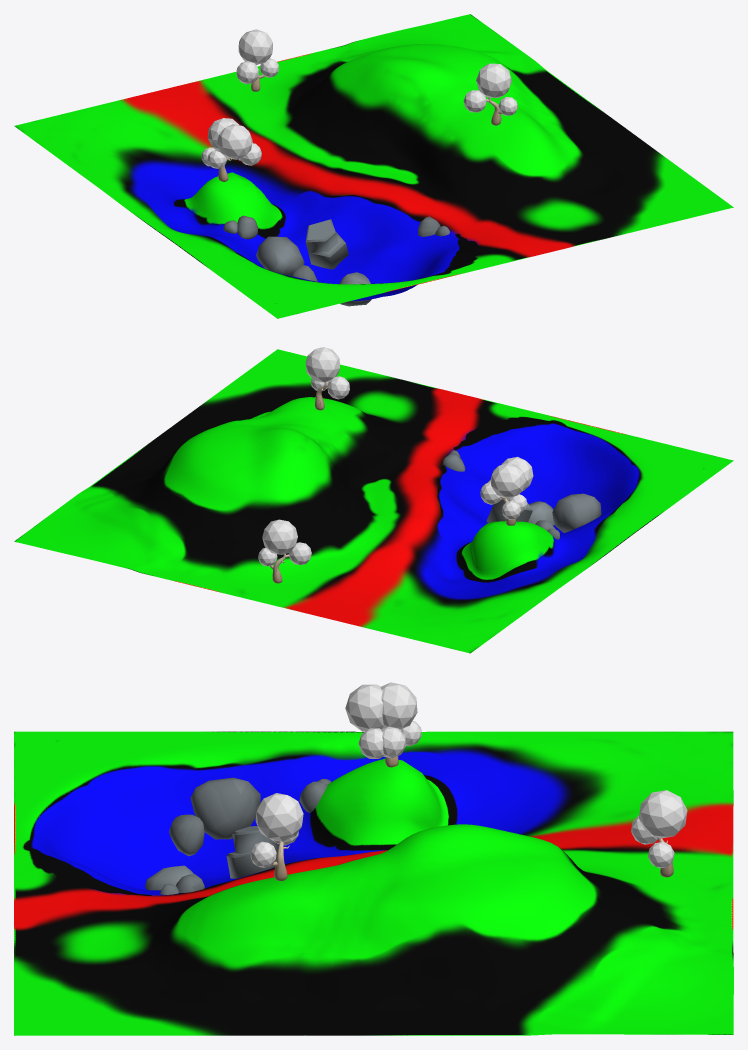
File: testbed.glb
3 views of the same model, one above another, from view 1: azimuth 30°, elevation 25°; view 2: azimuth 150°, elevation 25°; view 3: azimuth 270°, elevation 25° (orthographic). The views are drawn at different scales.
Visible parts, largest first — view 1: Terrain, Rock_1_A_Color1, Rock_3_D_Color1.002, Tree_Cannopy_1_C_Color6.007, Tree_Cannopy_1_C_Color6.010, Tree_Cannopy_1_C_Color6.004; view 2: Terrain, Rock_3_D_Color1.002, Tree_Cannopy_1_C_Color6.004, Tree_Cannopy_1_C_Color6.001, Tree_Cannopy_1_C_Color6.007; view 3: Terrain, Rock_3_D_Color1.002, Tree_Cannopy_1_C_Color6.004, Tree_Cannopy_1_C_Color6.007, Tree_Cannopy_1_C_Color6.010, Rock_1_A_Color1, Tree_Cannopy_1_C_Color6.001, Rock_3_D_Color1.005, Rock_3_F_Color1, Tree_Cannopy_1_C_Color6.011, Tree_Cannopy_1_C_Color6.002.
Boxes of the visible parts, left/top/right/bottom form: Terrain: left=14, top=14, right=733, bottom=318; Rock_1_A_Color1: left=305, top=219, right=348, bottom=269; Rock_3_D_Color1.002: left=256, top=236, right=304, bottom=275; Tree_Cannopy_1_C_Color6.007: left=476, top=63, right=511, bottom=97; Tree_Cannopy_1_C_Color6.010: left=217, top=124, right=252, bottom=159; Tree_Cannopy_1_C_Color6.004: left=238, top=29, right=272, bottom=64; Terrain: left=14, top=349, right=733, bottom=653; Rock_3_D_Color1.002: left=552, top=493, right=601, bottom=532; Tree_Cannopy_1_C_Color6.004: left=262, top=519, right=297, bottom=554; Tree_Cannopy_1_C_Color6.001: left=490, top=462, right=525, bottom=498; Tree_Cannopy_1_C_Color6.007: left=305, top=347, right=339, bottom=382; Terrain: left=14, top=731, right=733, bottom=1035; Rock_3_D_Color1.002: left=190, top=777, right=260, bottom=839; Tree_Cannopy_1_C_Color6.004: left=638, top=790, right=687, bottom=838; Tree_Cannopy_1_C_Color6.007: left=255, top=793, right=303, bottom=841; Tree_Cannopy_1_C_Color6.010: left=345, top=684, right=383, bottom=731; Rock_1_A_Color1: left=226, top=826, right=278, bottom=878; Tree_Cannopy_1_C_Color6.001: left=380, top=682, right=417, bottom=729; Rock_3_D_Color1.005: left=169, top=814, right=204, bottom=856; Rock_3_F_Color1: left=145, top=865, right=193, bottom=890; Tree_Cannopy_1_C_Color6.011: left=358, top=728, right=383, bottom=758; Tree_Cannopy_1_C_Color6.002: left=381, top=726, right=406, bottom=758.
Bounding box in the file's own units: 60.05 × 21.77 × 60.04.
Materials: 3 (3 with a texture image).
